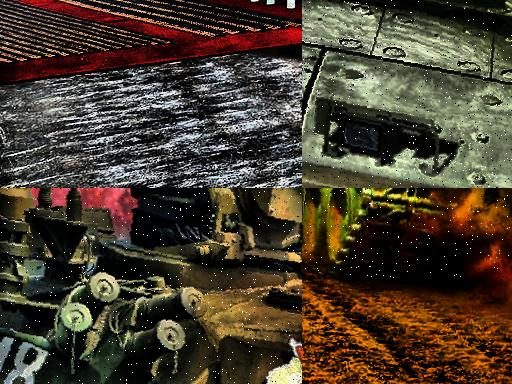tanks: (1, 189, 303, 384), (303, 1, 512, 189), (303, 189, 446, 279)
